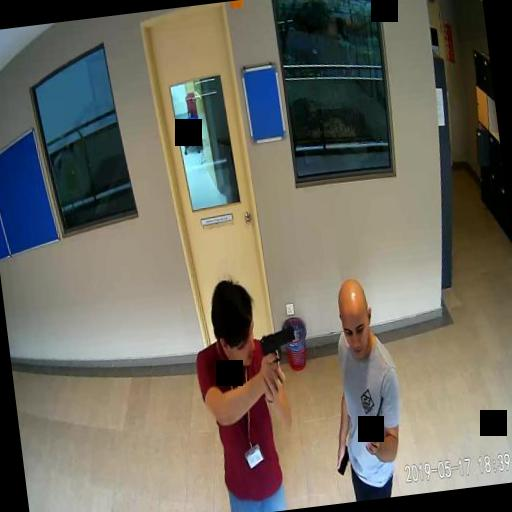Handgun: (258, 326, 299, 378)
